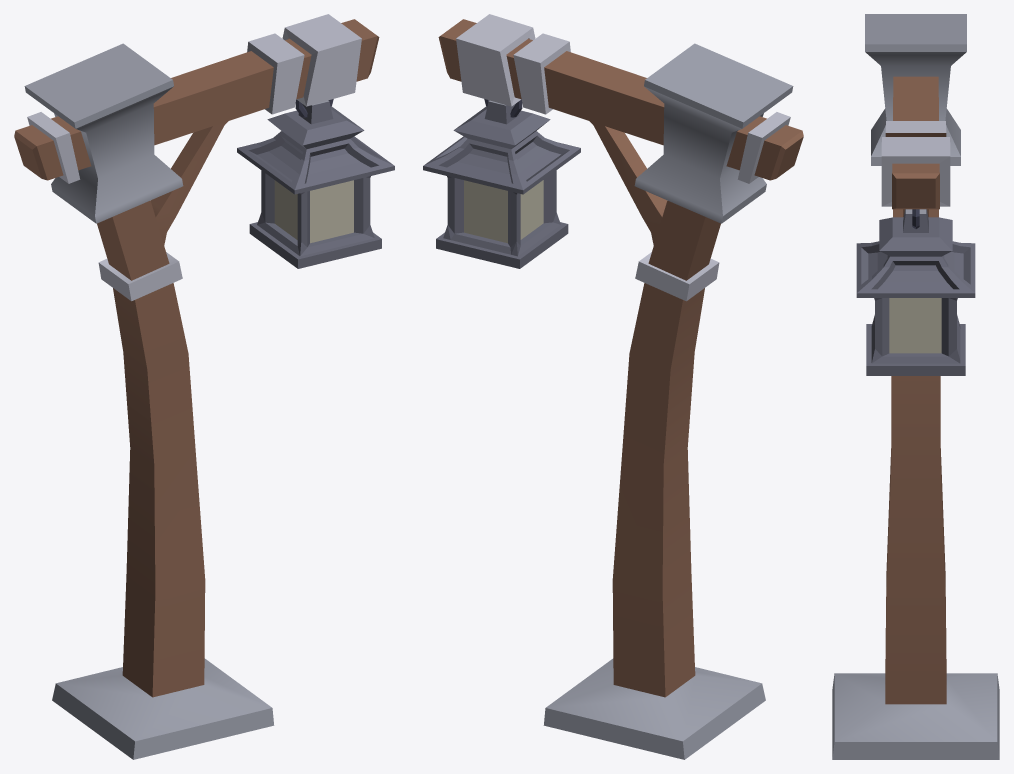
Rendered from streetlight.fbx.
3 views of the same model, side by side, from view 1: azimuth 30°, elevation 25°; view 2: azimuth 150°, elevation 25°; view 3: azimuth 270°, elevation 25° (orthographic). The views are drawn at different scales.
Visible parts, largest first — view 1: pCube1, pCube2, pCube4, pCube3; view 2: pCube1, pCube2, pCube4, pCube3; view 3: pCube1, pCube4, pCube2.
Boxes of the visible parts, <box> form: pCube1: <box>24,43,274,759</box>; pCube2: <box>14,14,379,183</box>; pCube4: <box>237,100,394,268</box>; pCube3: <box>151,121,228,245</box>; pCube1: <box>543,43,793,759</box>; pCube2: <box>438,14,803,183</box>; pCube4: <box>423,100,580,268</box>; pCube3: <box>589,121,666,245</box>; pCube1: <box>832,14,999,759</box>; pCube4: <box>856,209,975,375</box>; pCube2: <box>881,76,950,209</box>.
Size of the model in its own units: 14.04 by 25.36 by 5.71.
